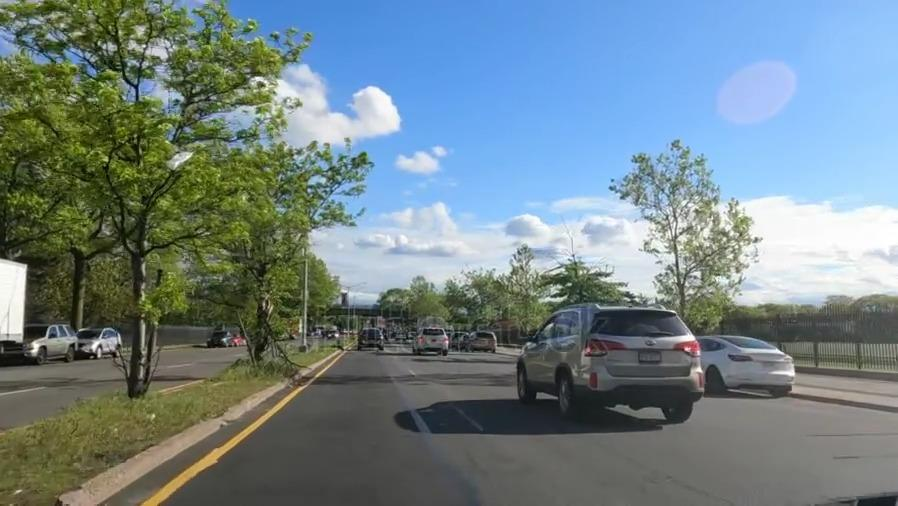car: (517, 303, 703, 426), (695, 326, 795, 406), (14, 321, 80, 365), (79, 327, 126, 361), (410, 328, 448, 353), (358, 327, 384, 351), (465, 332, 495, 351), (205, 330, 232, 348)
